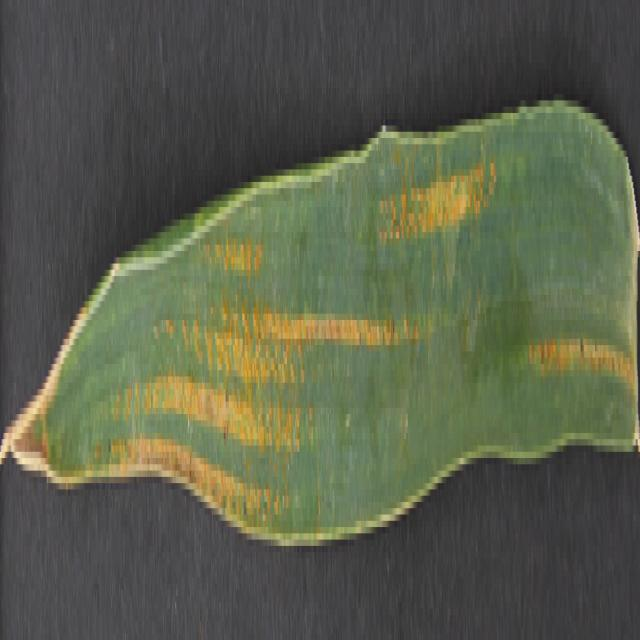leaf rust: (103, 150, 635, 514)
